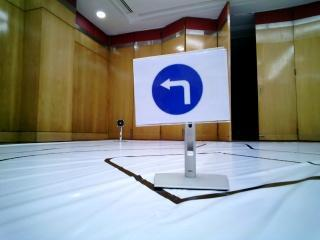left: (132, 59, 225, 117)
